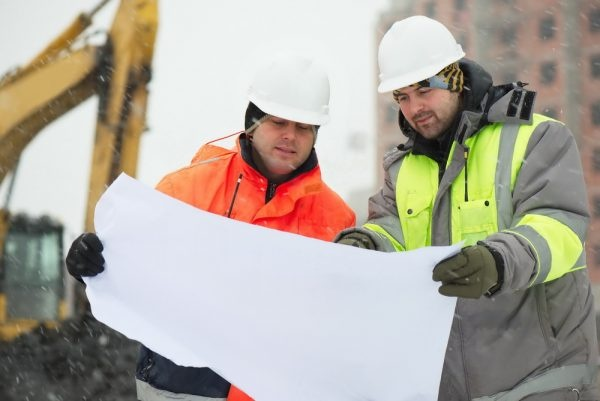white: (379, 14, 461, 141), (246, 53, 331, 169)
